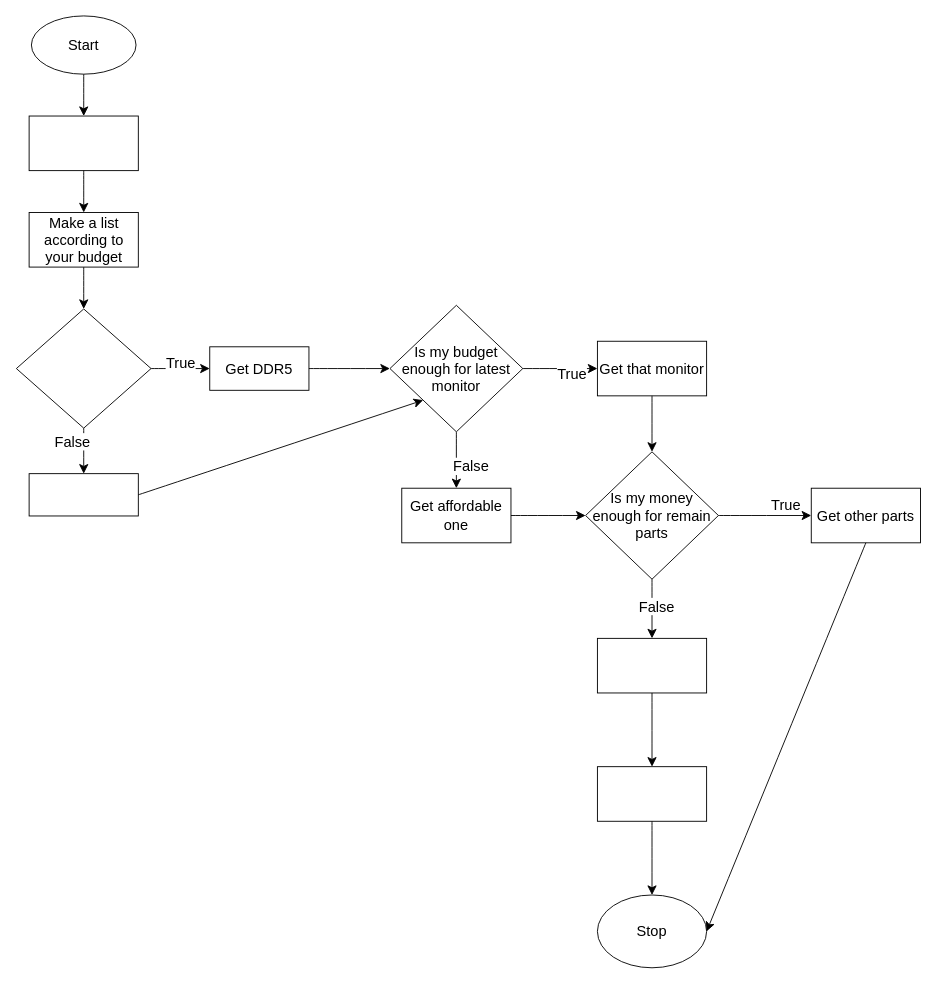
Image size: 936x984. Some labels were removed from this diagram. The shapes that lost their labels are listed below. From the top down, each one's centre as x and y in pixels, then its label:
point (83, 143): Research for computer parts
point (83, 368): is my money enough for DDR5 rams
point (83, 494): Get DDR4
point (652, 665): Look for notebook
point (652, 793): Buy notebook
